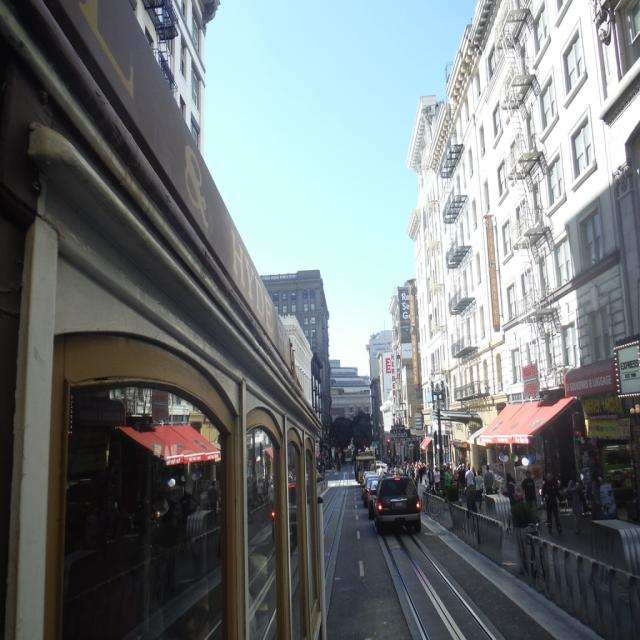car: (374, 472, 424, 530)
